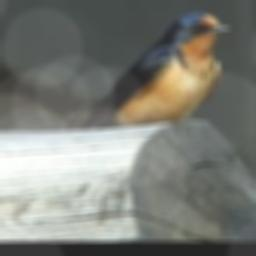Swallow: (17, 11, 233, 129)
